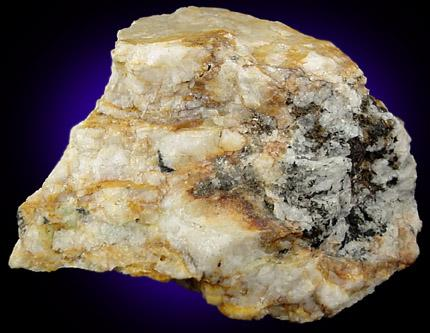gold: (68, 7, 363, 168), (9, 181, 267, 320), (188, 196, 370, 291), (242, 70, 295, 128)
